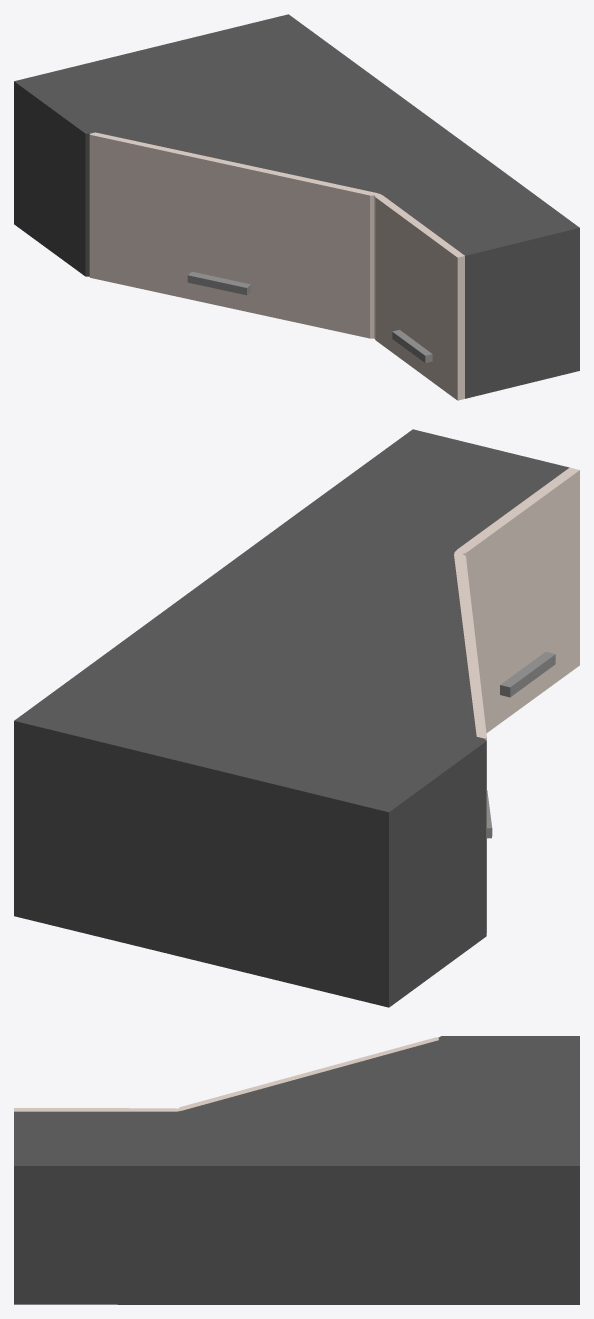
The model's file is Kitchen_Cabinet_5.fbx.
The picture shows the model from 3 angles, top to bottom: view 1: azimuth 30°, elevation 25°; view 2: azimuth 150°, elevation 25°; view 3: azimuth 270°, elevation 25°; orthographic projection. The views are drawn at different scales.
Visible parts, largest first — view 1: Kitchen_Cabinet_5; view 2: Kitchen_Cabinet_5; view 3: Kitchen_Cabinet_5.
Boxes of the visible parts, x1,y1,x2,y2 form: Kitchen_Cabinet_5: (14,14,579,400); Kitchen_Cabinet_5: (14,429,579,1007); Kitchen_Cabinet_5: (14,1036,579,1304).
Bounding box in the file's own units: 120 × 221 × 59.82.
